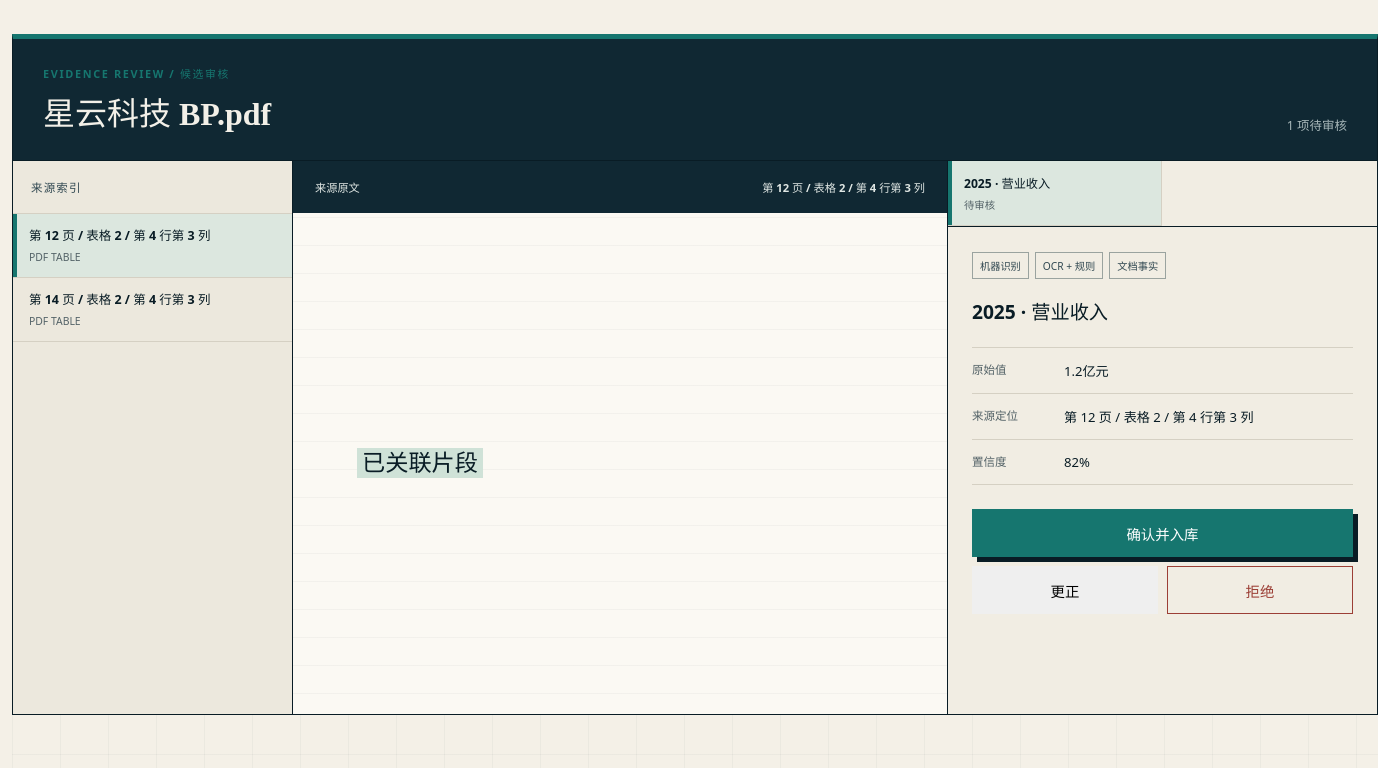
Scenario: CandidateReviewWorkspace › clears the candidate and actions when navigation selects an unlinked fragment
Expected: the text "1.2亿元" is shown, [1064, 362, 1109, 380]
Step 1. Click the button "第 14 页 / 表格 2 / 第 4 行第 3 列 pdf table" → (152, 310), box [13, 278, 292, 342]
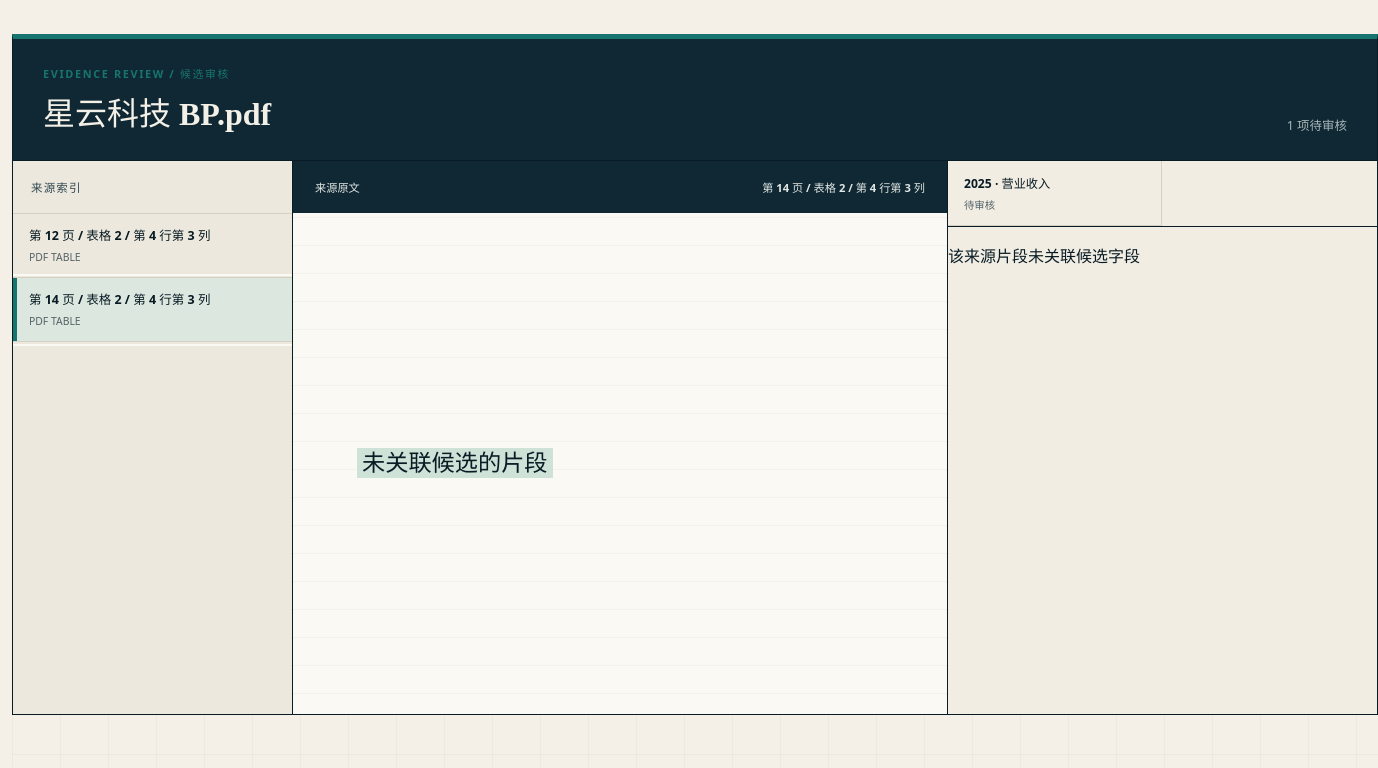
Expected: the text "该来源片段未关联候选字段" is shown, [948, 248, 1140, 265]
Expected: the button "确认并入库" is gone
